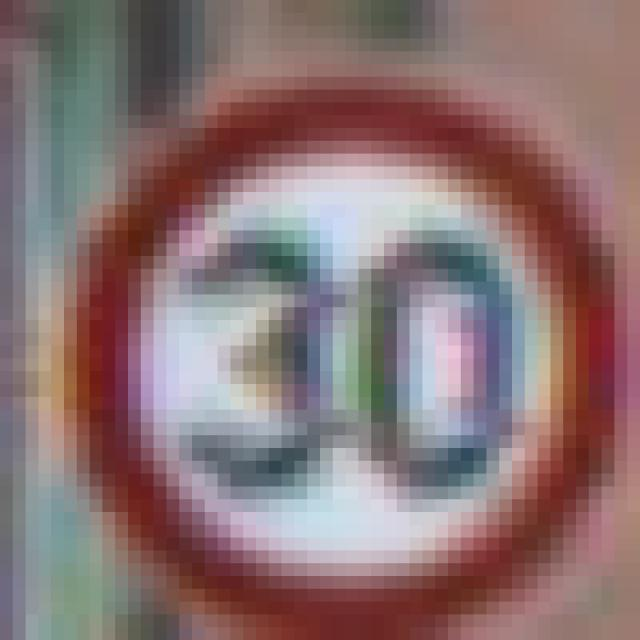SPEED_LIMIT_30: (51, 64, 602, 614)
